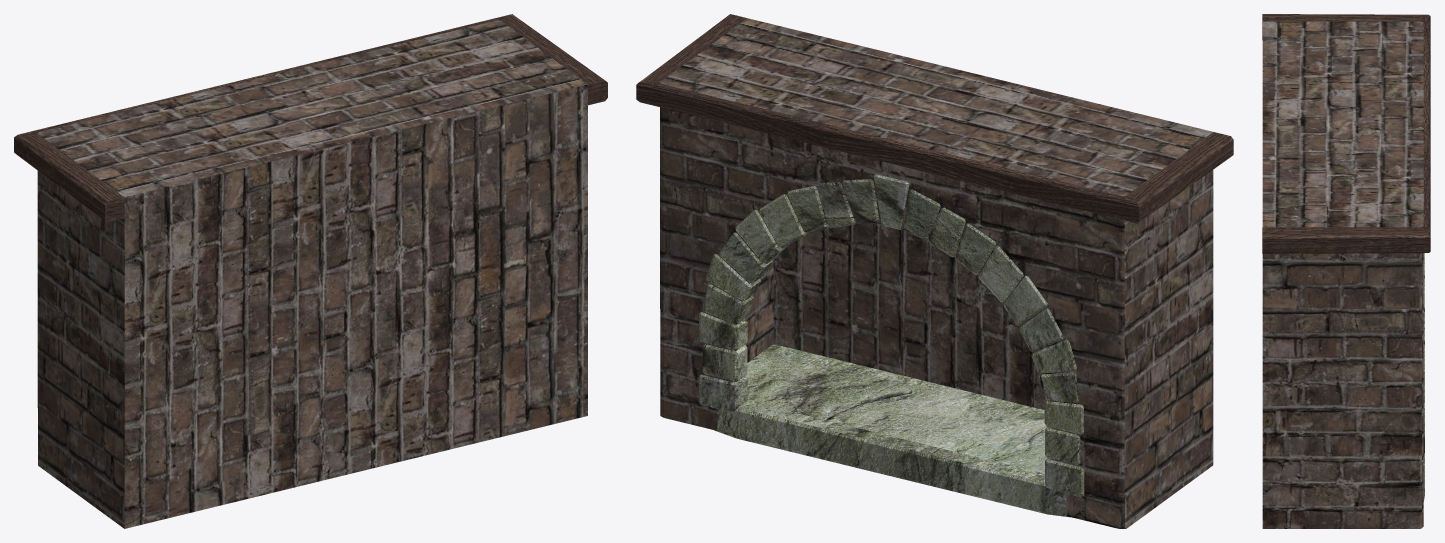
The model's file is oven.fbx.
3 renders of one model, left to right at view 1: azimuth 30°, elevation 25°; view 2: azimuth 150°, elevation 25°; view 3: azimuth 270°, elevation 25°, orthographic. The views are drawn at different scales.
Parts seen in each view (by area): view 1: Cube.003; view 2: Cube.003; view 3: Cube.003.
Part boxes in pixels (x1,y1,x2,y2): Cube.003: [14, 14, 607, 528]; Cube.003: [636, 14, 1233, 528]; Cube.003: [1262, 14, 1430, 528].
Bounding box in the file's own units: 204 × 130 × 64.78.
